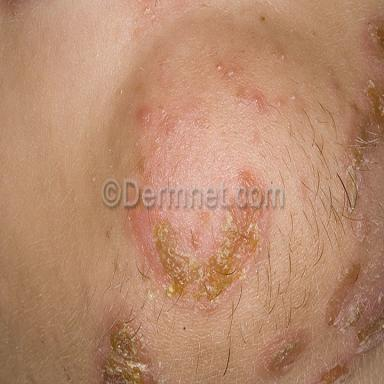Impetigo: (147, 209, 265, 301), (325, 235, 384, 353), (343, 80, 384, 214), (102, 324, 157, 384), (263, 330, 309, 377), (319, 361, 349, 383), (368, 17, 384, 55)
